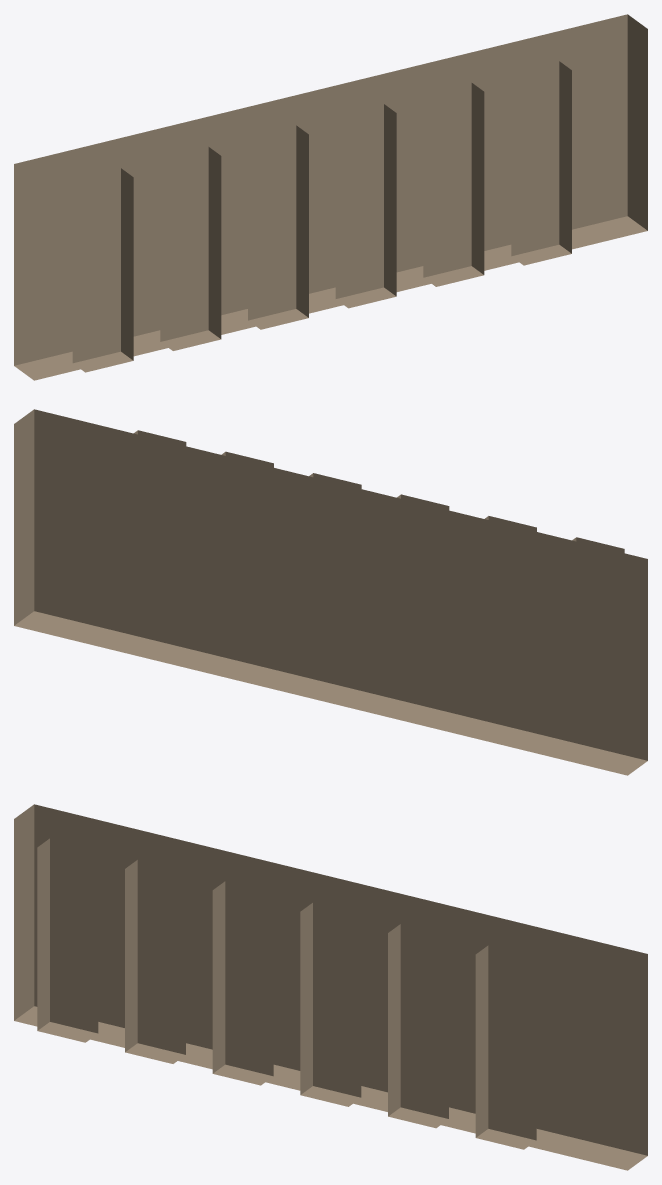
File: wooden_bridge.glb
The picture shows the model from 3 angles, top to bottom: view 1: azimuth 30°, elevation 25°; view 2: azimuth 150°, elevation 25°; view 3: azimuth 330°, elevation 25°; orthographic projection.
Visible parts, largest first — view 1: world; view 2: world; view 3: world.
Part boxes in pixels (x1,y1,x2,y2): world: (14,14,647,380); world: (14,409,647,775); world: (14,804,647,1170).
Bounding box in the file's own units: 7 × 2.2 × 0.675.
